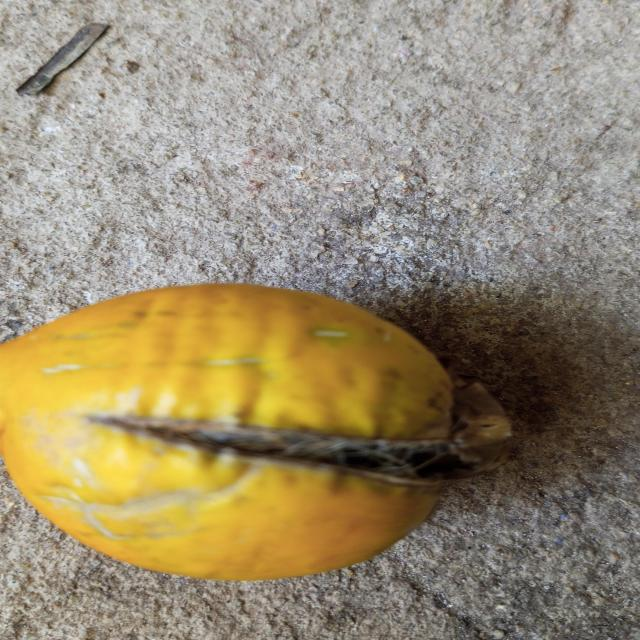damaged: (0, 284, 510, 584)
